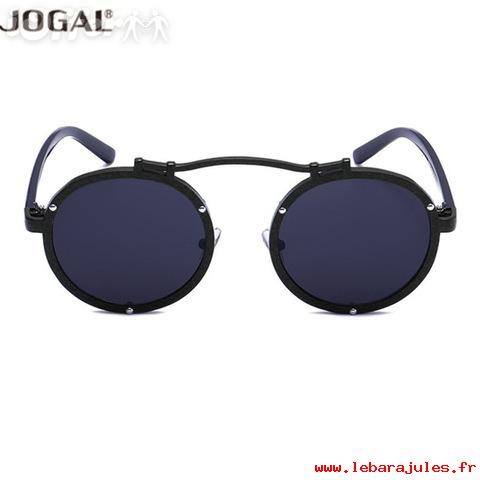sunglasses: (28, 144, 442, 319)
